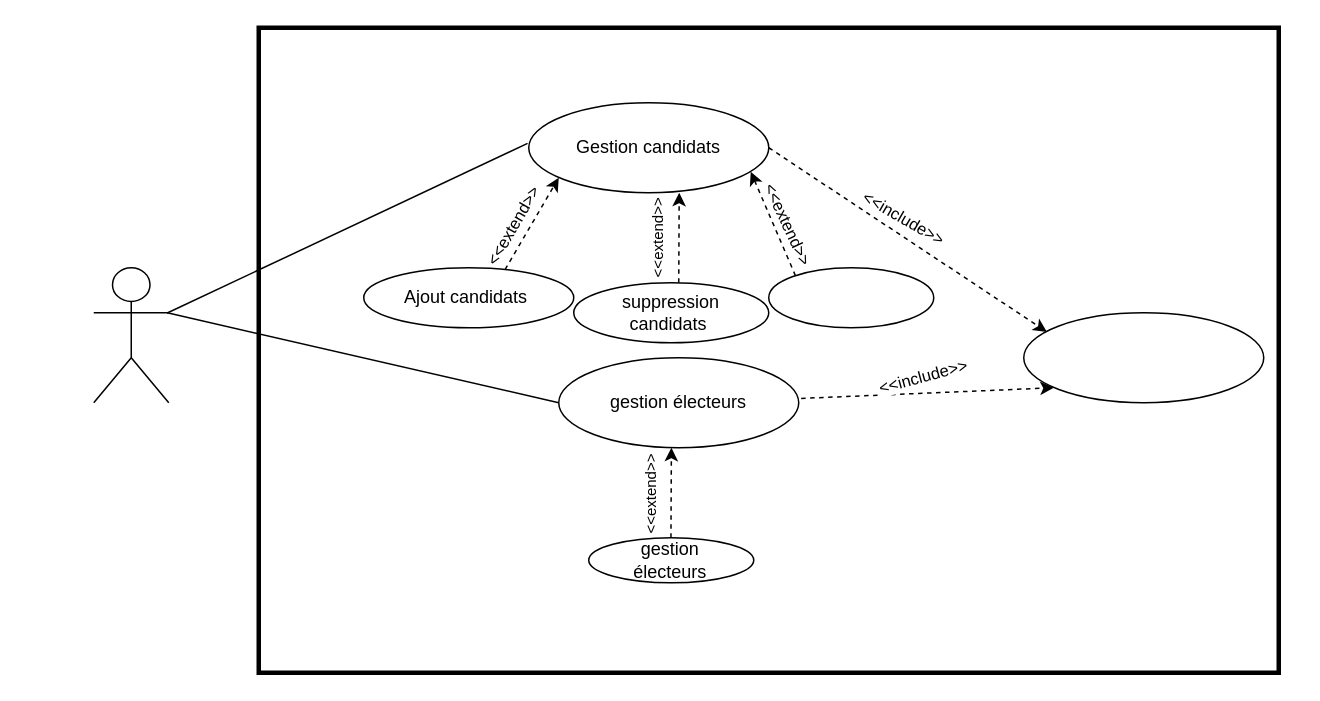
This 1320x701 diagram has some shape labels left out. Each missing label, with the box of its shape:
authentification: (1022, 311, 1264, 403)
Gestionnaire Bureau de vote: (92, 266, 169, 403)
modifier candidats: (767, 266, 934, 328)
